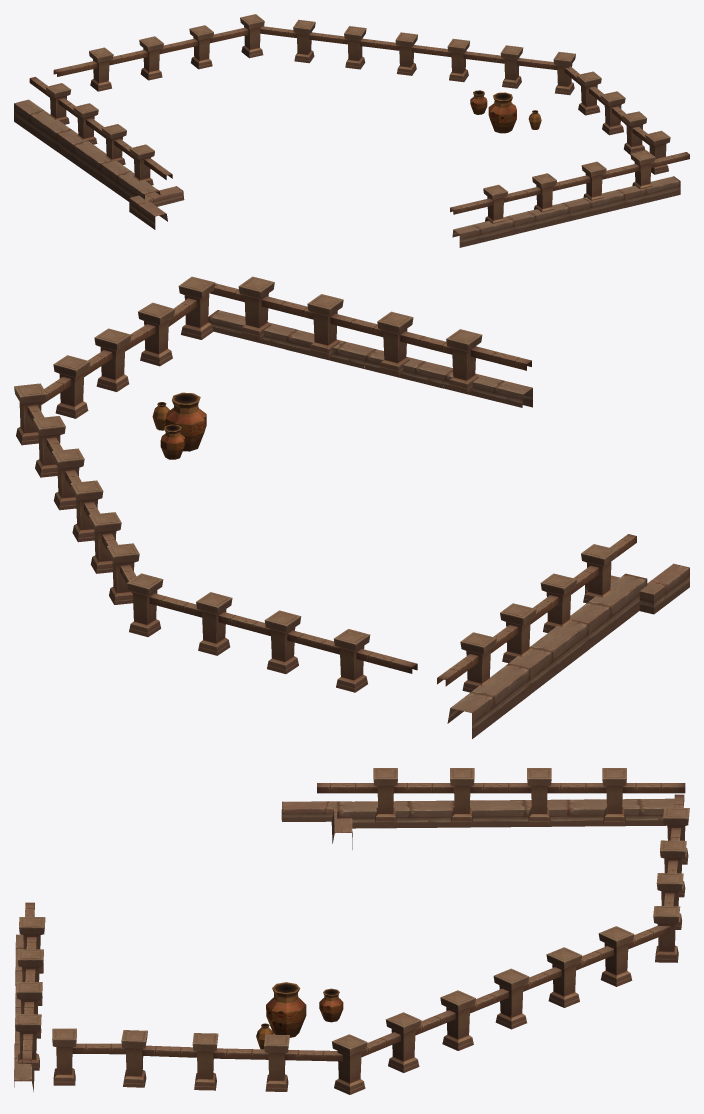
The model's file is Area_09_13.fbx.
3 views of the same model, one above another, from view 1: azimuth 30°, elevation 25°; view 2: azimuth 150°, elevation 25°; view 3: azimuth 270°, elevation 25° (orthographic). The views are drawn at different scales.
Visible parts, largest first — view 1: Area_09_13; view 2: Area_09_13; view 3: Area_09_13.
Part boxes in pixels (bbox=[...]): Area_09_13: bbox=[14, 14, 689, 247]; Area_09_13: bbox=[14, 276, 689, 738]; Area_09_13: bbox=[14, 768, 689, 1094].
Size of the model in its own units: 2111 by 224 by 2032.
